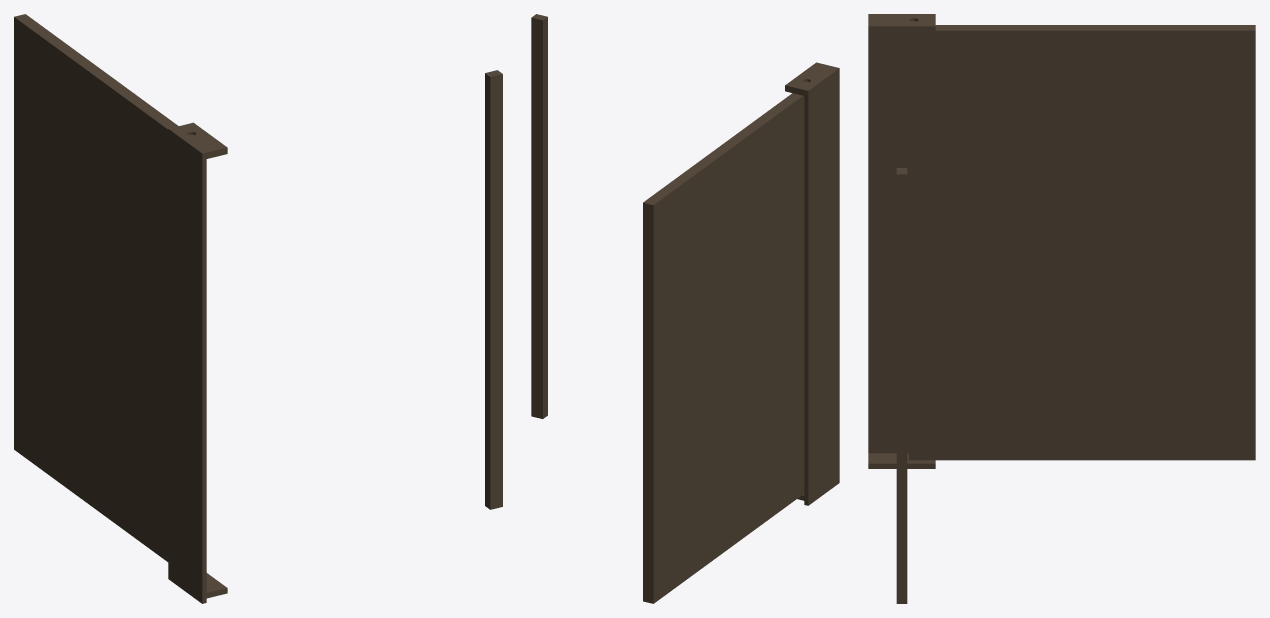
Rendered from single-door-LOD1.glb.
3 views of the same model, side by side, from view 1: azimuth 30°, elevation 25°; view 2: azimuth 150°, elevation 25°; view 3: azimuth 270°, elevation 25° (orthographic). The views are drawn at different scales.
Parts seen in each view (by area): view 1: single-door_timber; view 2: single-door_timber; view 3: single-door_timber.
Boxes of the visible parts, x1,y1,x2,y2 form: single-door_timber: [14, 14, 502, 603]; single-door_timber: [531, 14, 839, 603]; single-door_timber: [868, 14, 1255, 603].
Bounding box in the file's own units: 1.5 × 2.05 × 1.61.
